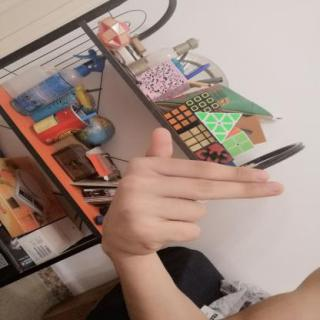GHAYN: (91, 120, 296, 261)
